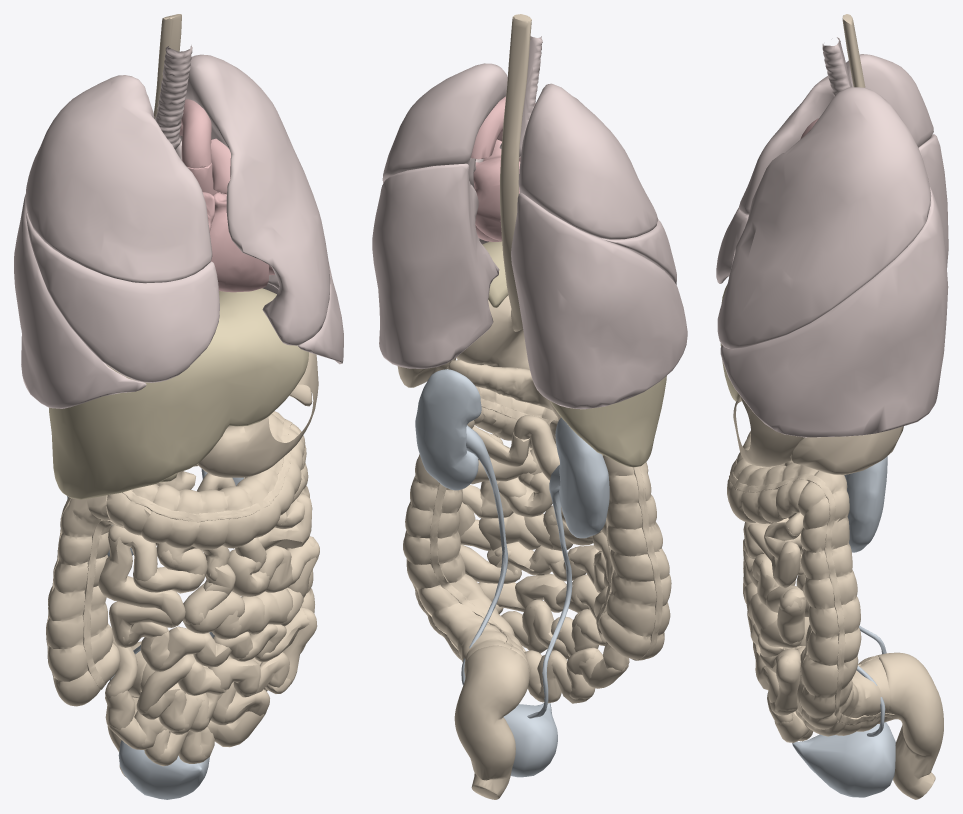
File: organ.glb
The picture shows the model from 3 angles, left to right: view 1: azimuth 30°, elevation 25°; view 2: azimuth 150°, elevation 25°; view 3: azimuth 270°, elevation 25°; orthographic projection. The views are drawn at different scales.
Visible parts, largest first — view 1: right_lung, small_intestine, liver, large_intestine, left_lung, heart, stomach, urinary_bladder, trachea, esophagus; view 2: right_lung, large_intestine, left_lung, small_intestine, left_kidney, liver, esophagus, right_kidney, heart, urinary_bladder, stomach, pancreas (+4 smaller); view 3: left_lung, large_intestine, small_intestine, right_lung, urinary_bladder, spleen, left_kidney, stomach, trachea, esophagus.
Part boxes in pixels (x1,y1,x2,y2): right_lung: (14, 75, 219, 408); small_intestine: (98, 472, 319, 766); liver: (49, 288, 308, 499); large_intestine: (46, 411, 314, 777); left_lung: (175, 54, 343, 364); heart: (179, 99, 274, 292); stomach: (197, 352, 318, 477); urinary_bladder: (118, 740, 209, 799); trachea: (155, 45, 192, 149); esophagus: (154, 14, 181, 118); right_lung: (511, 83, 687, 409); large_intestine: (403, 386, 671, 799); left_lung: (372, 63, 507, 368); small_intestine: (458, 415, 629, 703); left_kidney: (415, 369, 481, 490); liver: (482, 241, 666, 467); esophagus: (500, 14, 531, 331); right_kidney: (555, 417, 609, 538); heart: (470, 96, 535, 241); urinary_bladder: (503, 703, 557, 777); stomach: (456, 295, 529, 368); pancreas: (447, 360, 560, 438); left_lung: (717, 87, 948, 437); large_intestine: (727, 431, 943, 799); small_intestine: (743, 460, 813, 742); right_lung: (716, 54, 948, 283); urinary_bladder: (792, 722, 895, 797); spleen: (790, 426, 903, 474); left_kidney: (844, 456, 887, 552); stomach: (733, 396, 804, 466); trachea: (822, 37, 851, 96); esophagus: (842, 14, 865, 87).
Size of the model in its own units: 0.2609 by 0.6886 by 0.1857.
